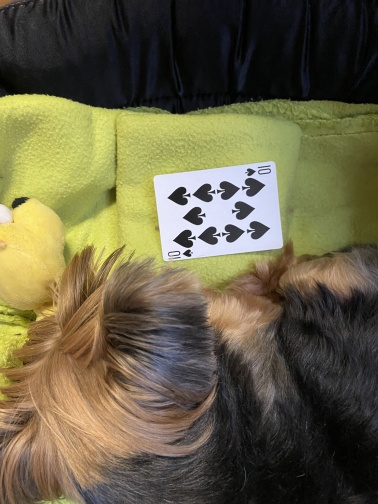ten: (151, 159, 286, 264)
